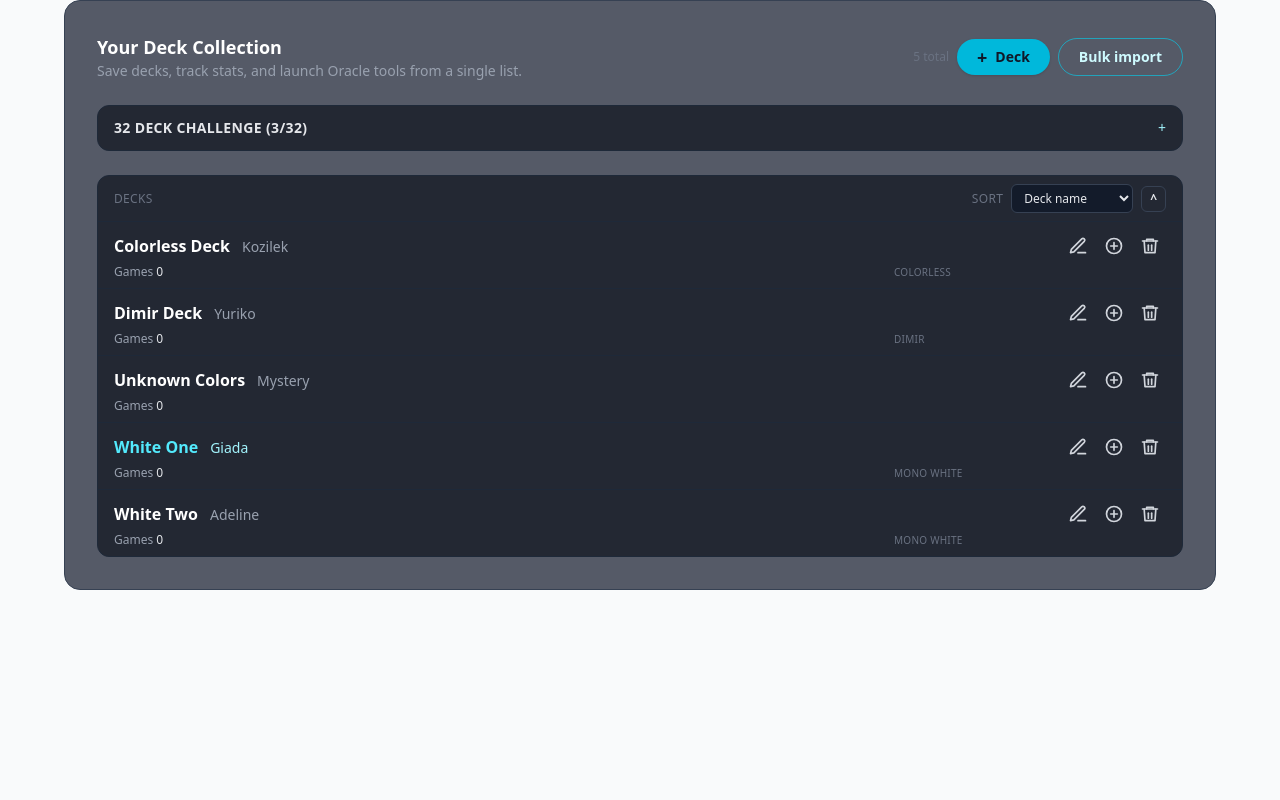
Test: DeckCollection › shows 32 challenge collapsed by default and expands with progress/details
Expected: the text "3 of 32 colors completed" is not shown
Expected: the text "White One — Giada" is not shown
Click the button "32 Deck Challenge (3/32) +": (193, 128) [98, 106, 1182, 150]
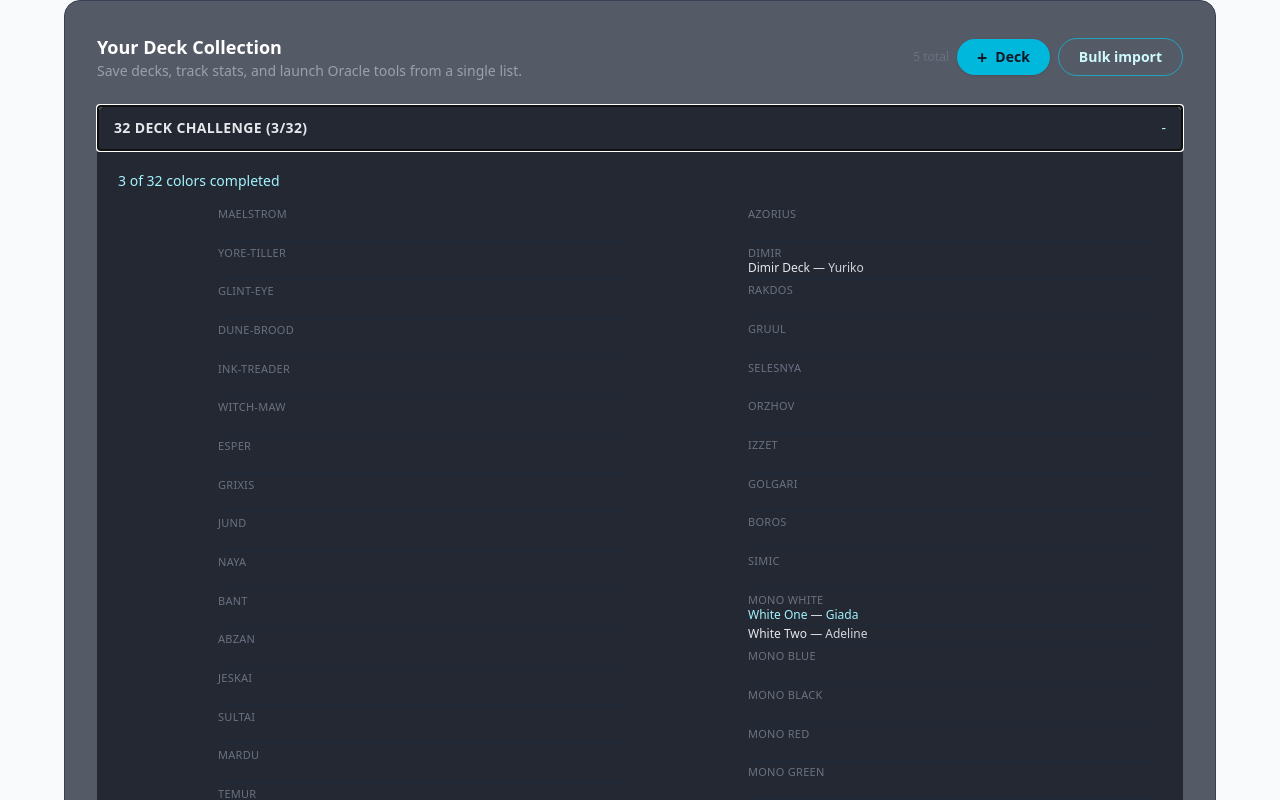
Expected: the text "3 of 32 colors completed" is shown, [118, 171, 280, 190]
Expected: the text "White Two" is shown, [748, 625, 807, 642]
Expected: the text "Adeline" is shown, [825, 626, 868, 642]
